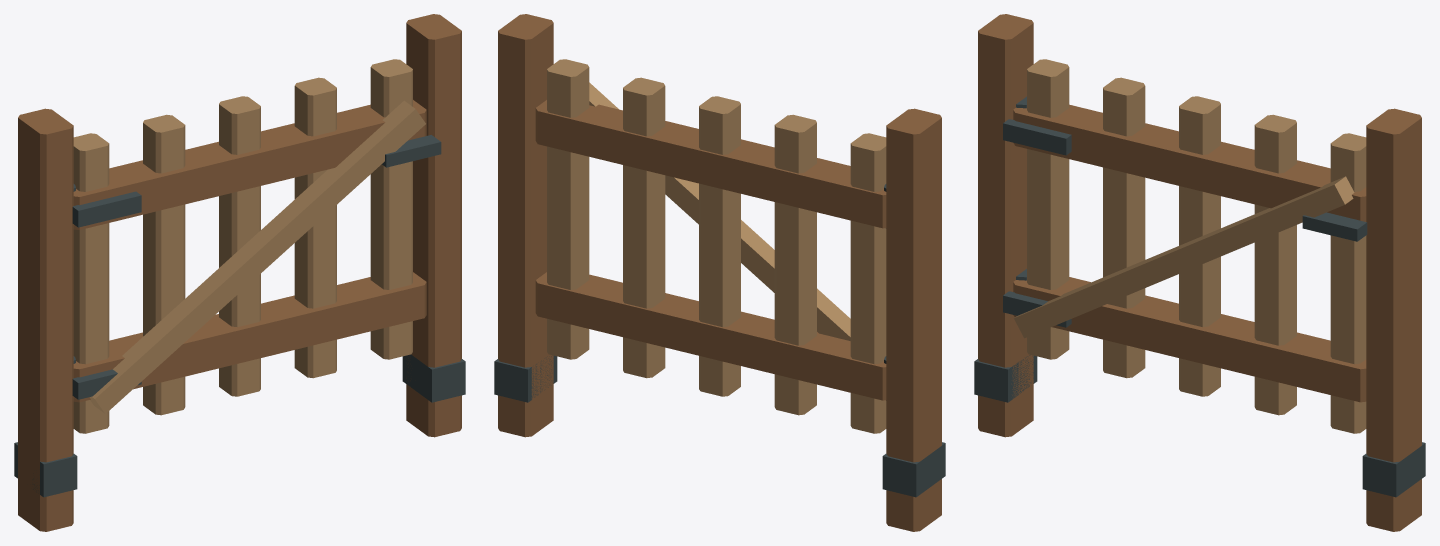
Rendered from gate_wood.glb.
3 renders of one model, left to right at view 1: azimuth 30°, elevation 25°; view 2: azimuth 150°, elevation 25°; view 3: azimuth 330°, elevation 25°, orthographic.
Visible parts, largest first — view 1: door, geometry; view 2: door, geometry; view 3: door, geometry.
Part boxes in pixels (x1=…): door: x1=72, y1=59, x2=441, y2=433; geometry: x1=14, y1=14, x2=465, y2=531; door: x1=535, y1=59, x2=886, y2=433; geometry: x1=494, y1=14, x2=945, y2=531; door: x1=1003, y1=59, x2=1367, y2=433; geometry: x1=974, y1=14, x2=1425, y2=531.
Size of the model in its own units: 1 by 0.9 by 0.15.
